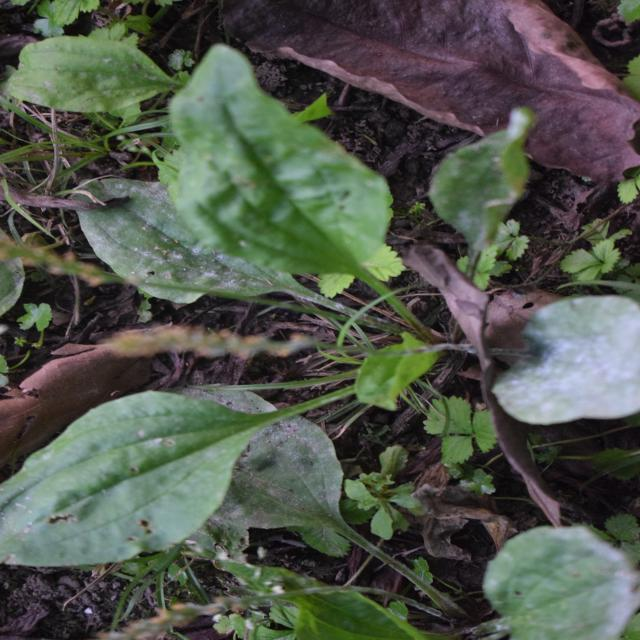plantain: (76, 11, 491, 440)
